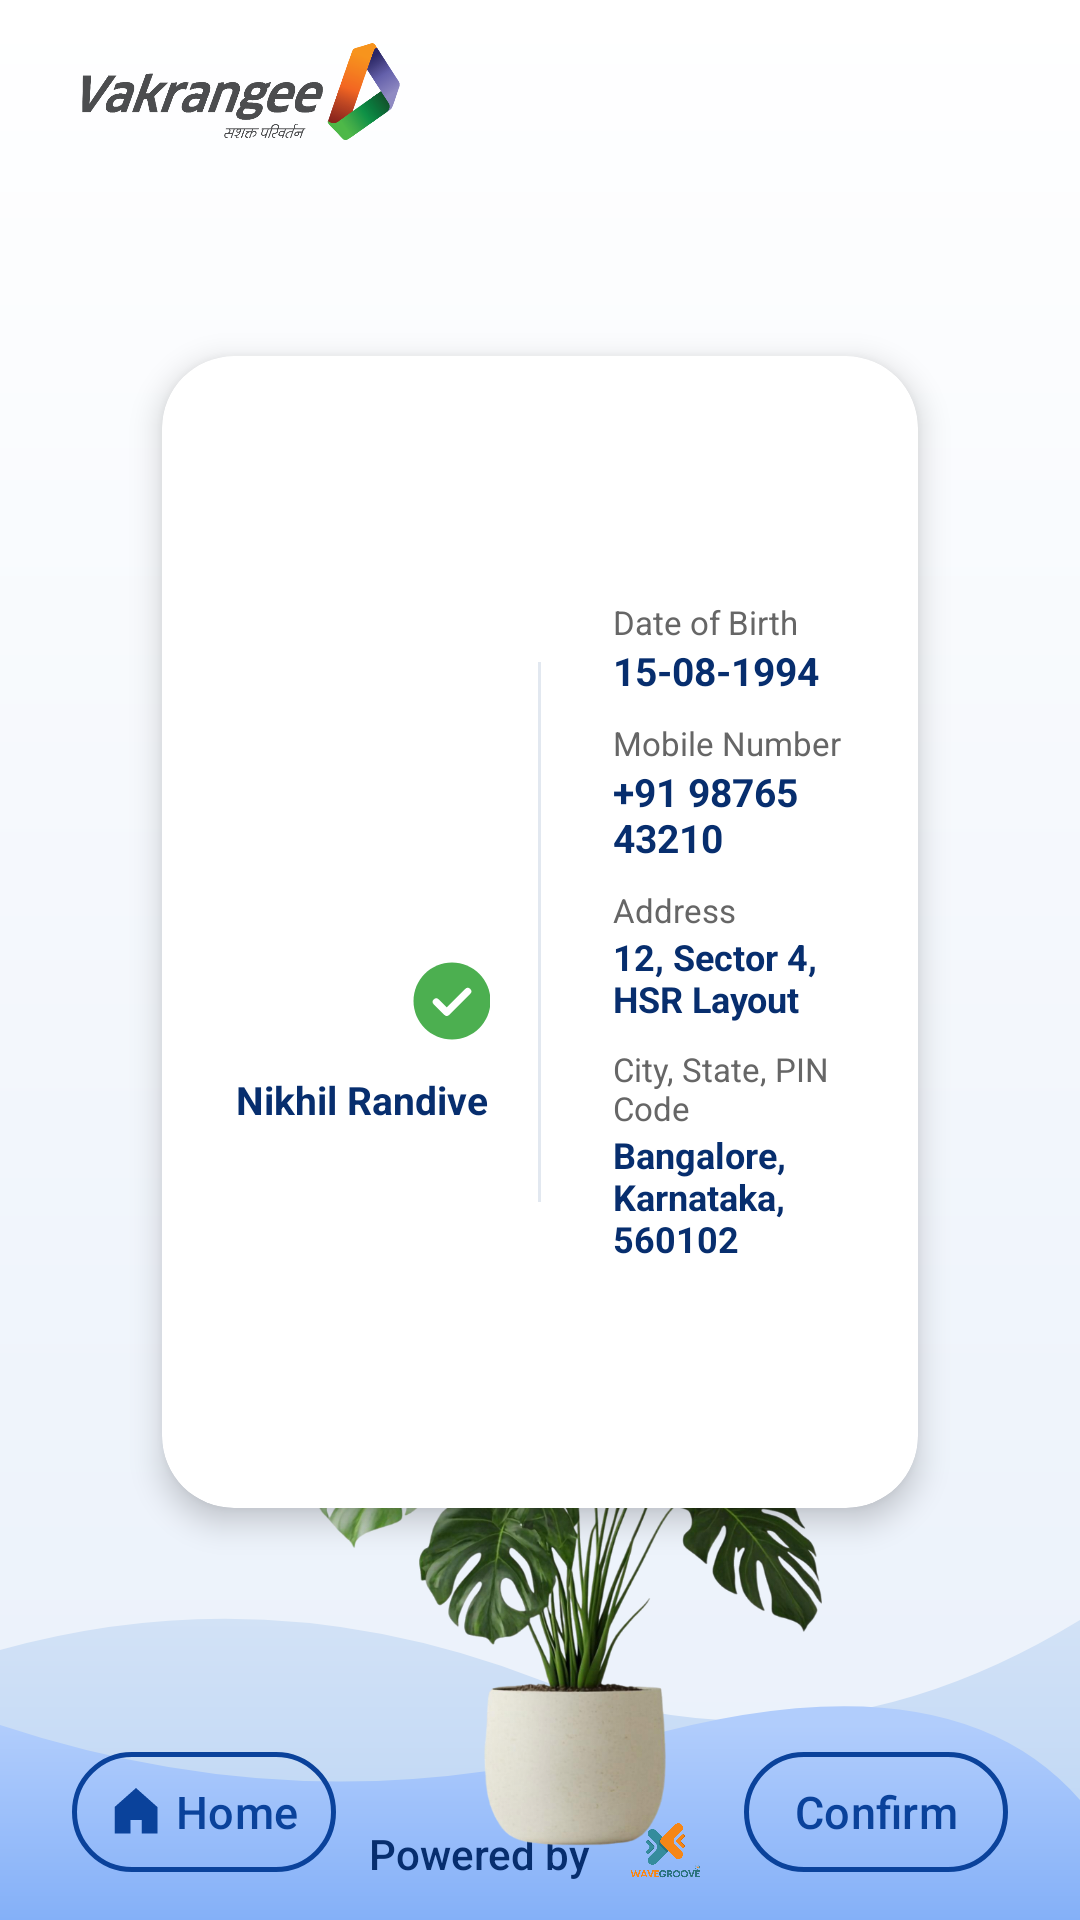

Locate icon controls on the screen. Image size 1080 × 1920, boxes as detection(x1, y1, x2, y2).
Verified Status: detection(413, 962, 490, 1040)
